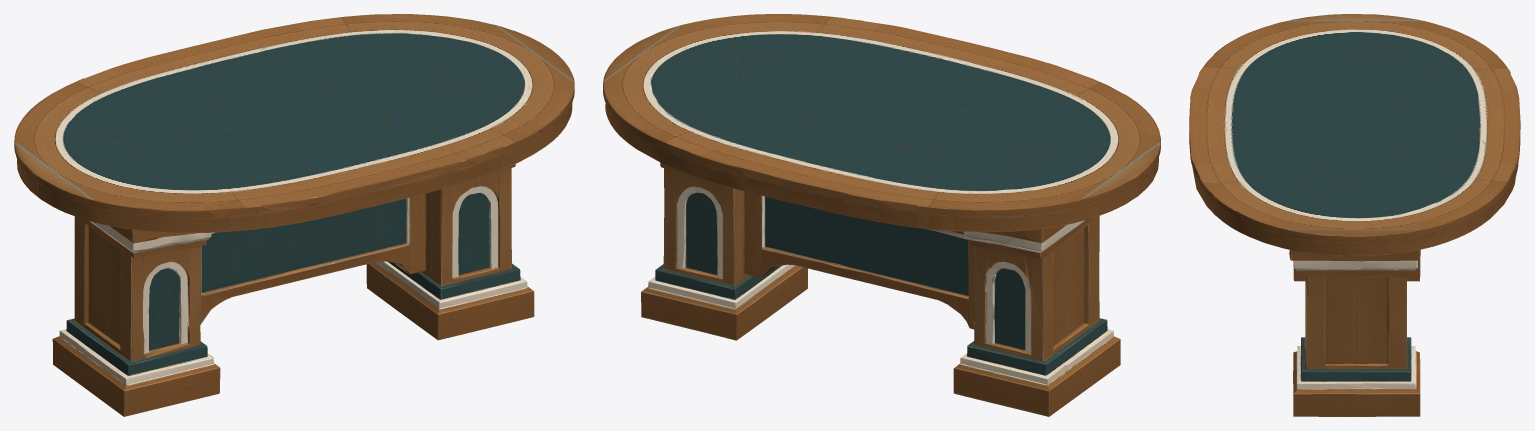
The model's file is ovalTable.glb.
3 renders of one model, left to right at view 1: azimuth 30°, elevation 25°; view 2: azimuth 150°, elevation 25°; view 3: azimuth 270°, elevation 25°, orthographic. The views are drawn at different scales.
Parts seen in each view (by area): view 1: Mesh_0; view 2: Mesh_0; view 3: Mesh_0.
Boxes of the visible parts, x1,y1,x2,y2 form: Mesh_0: [14, 14, 574, 416]; Mesh_0: [603, 14, 1160, 416]; Mesh_0: [1189, 14, 1520, 416].
Bounding box in the file's own units: 1.2 × 0.5114 × 0.7537.
1 material, 1 textured.
